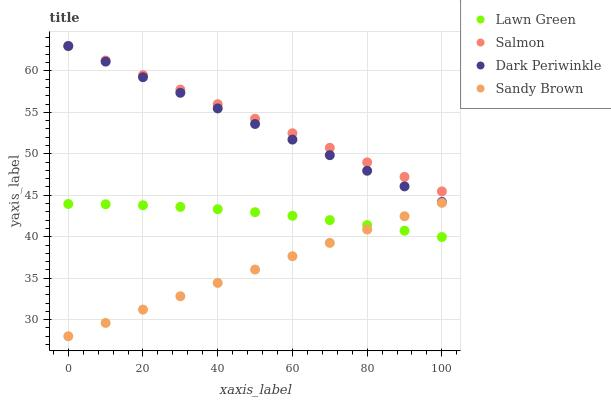axis: (53, 347, 466, 357), (44, 32, 54, 350)
legend: (460, 0, 610, 108)
point: (361, 224, 372, 238), (249, 120, 262, 131), (213, 205, 223, 219), (398, 170, 410, 181), (360, 156, 372, 166), (288, 137, 298, 148), (436, 198, 447, 208), (139, 201, 148, 213), (99, 201, 112, 209), (436, 184, 446, 194), (400, 213, 411, 222), (102, 317, 113, 326), (287, 211, 299, 219), (360, 221, 373, 228), (177, 89, 186, 99), (288, 127, 298, 136), (399, 182, 409, 191), (323, 218, 333, 227), (249, 264, 259, 273), (250, 113, 260, 121), (364, 166, 374, 174), (63, 331, 73, 339), (438, 197, 446, 206), (438, 234, 446, 243), (399, 227, 408, 235), (64, 42, 73, 49), (176, 293, 185, 300)
